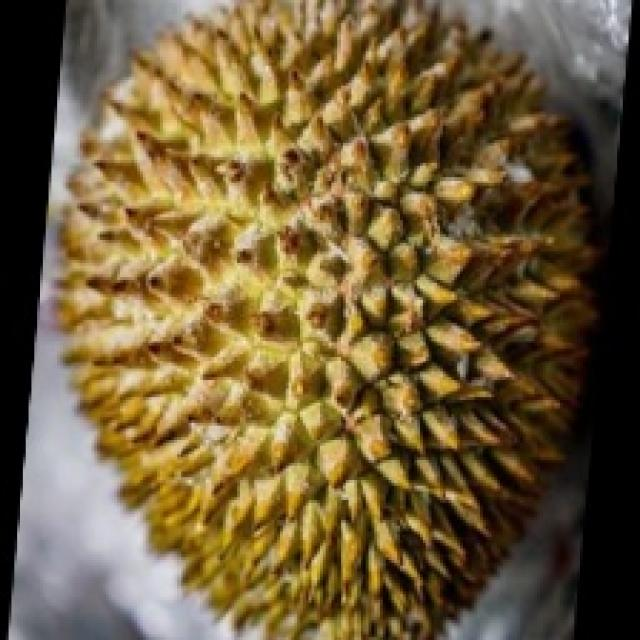d24: (87, 29, 568, 585)
